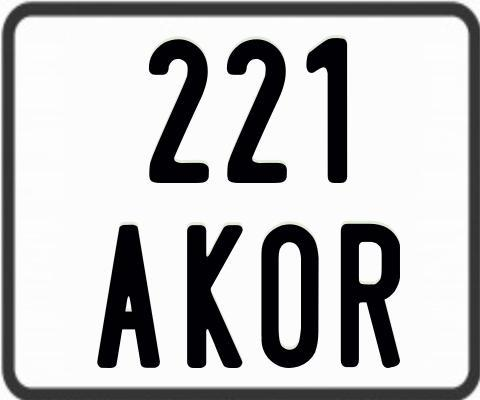0: (260, 224, 318, 373)
1: (305, 38, 346, 183)
2: (148, 39, 211, 188), (227, 39, 288, 185)
A: (97, 223, 162, 370)
K: (187, 222, 246, 371)
R: (341, 222, 404, 367)
